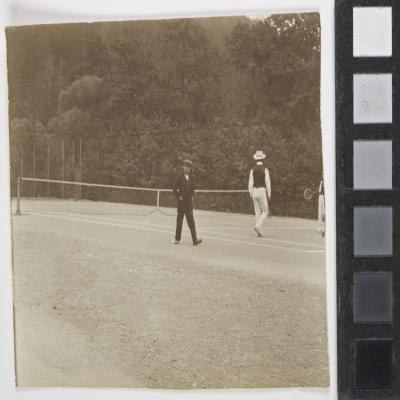photos_negatives: (11, 27, 328, 392)
